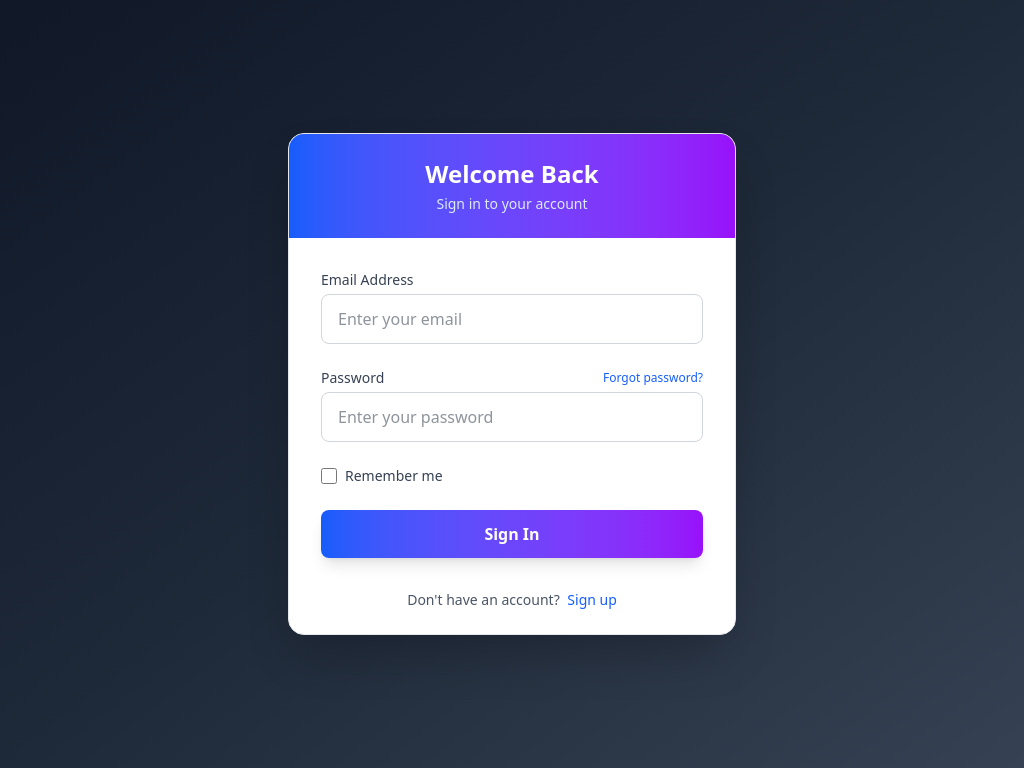
Test case: Login Form Tests › should validate empty email field
This screenshot has width=1024, height=768.
Type "pass123" into the password field with test id "login-password-input".
click(512, 417); type("pass123")  # box top-left (321, 392), bottom-right (703, 442)
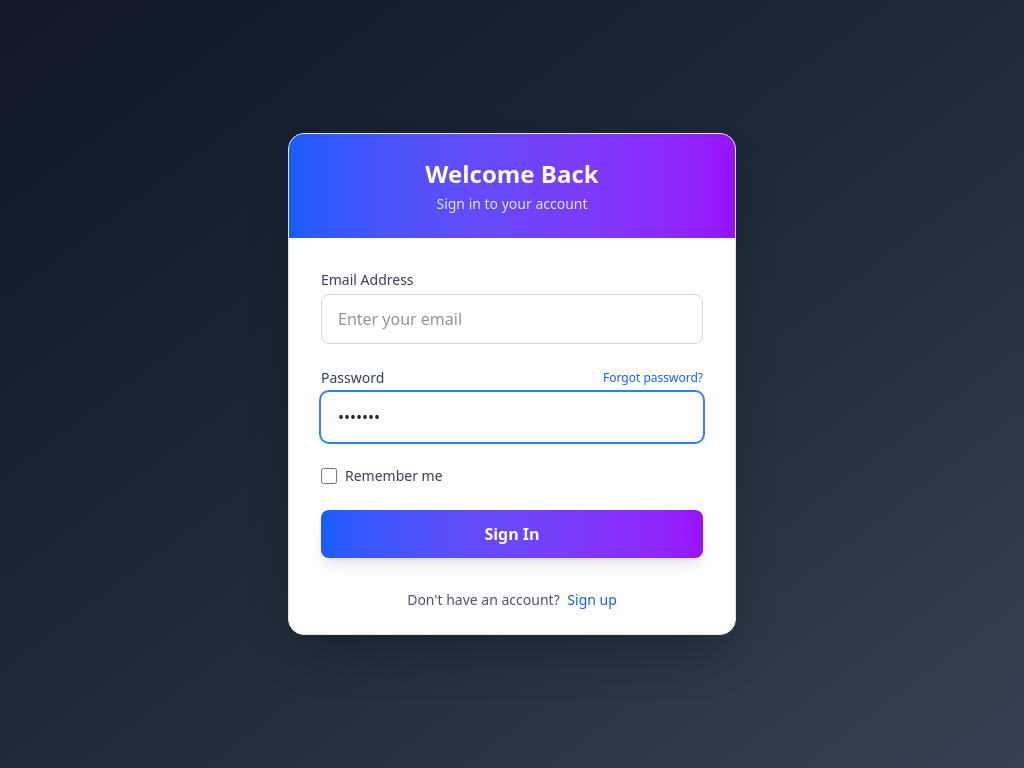
Click the button with test id "login-submit-button".
click(512, 534)  # box top-left (321, 510), bottom-right (703, 558)
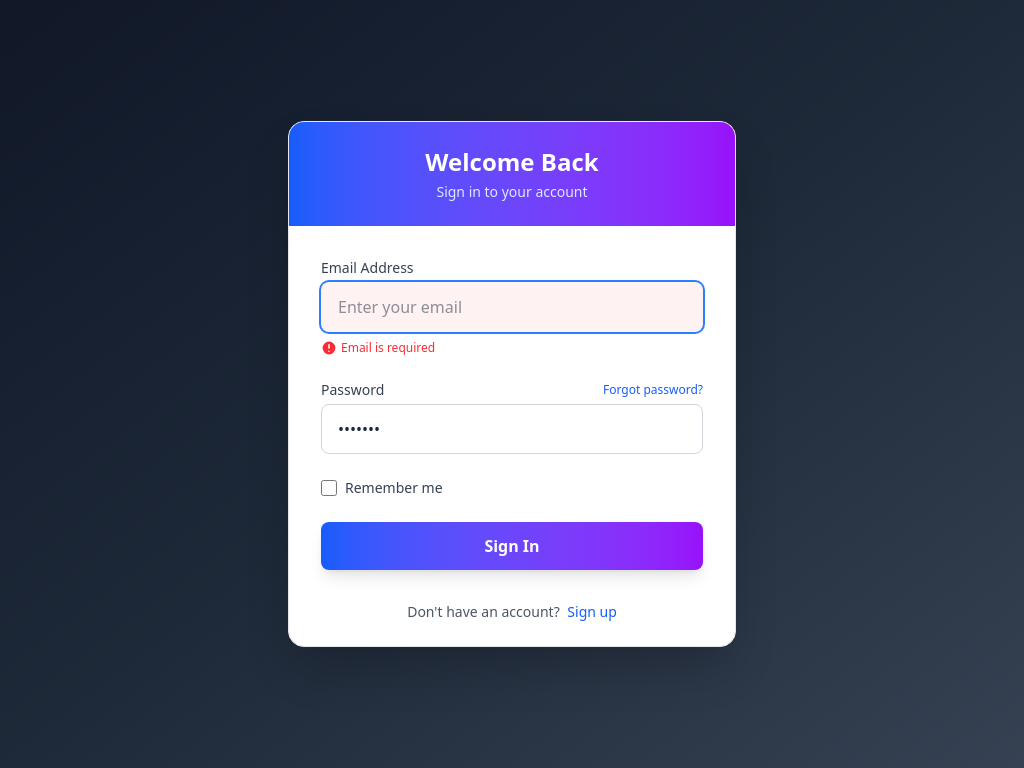
Expected: the text "Email is required" is shown, top-left (321, 339), bottom-right (435, 356)
